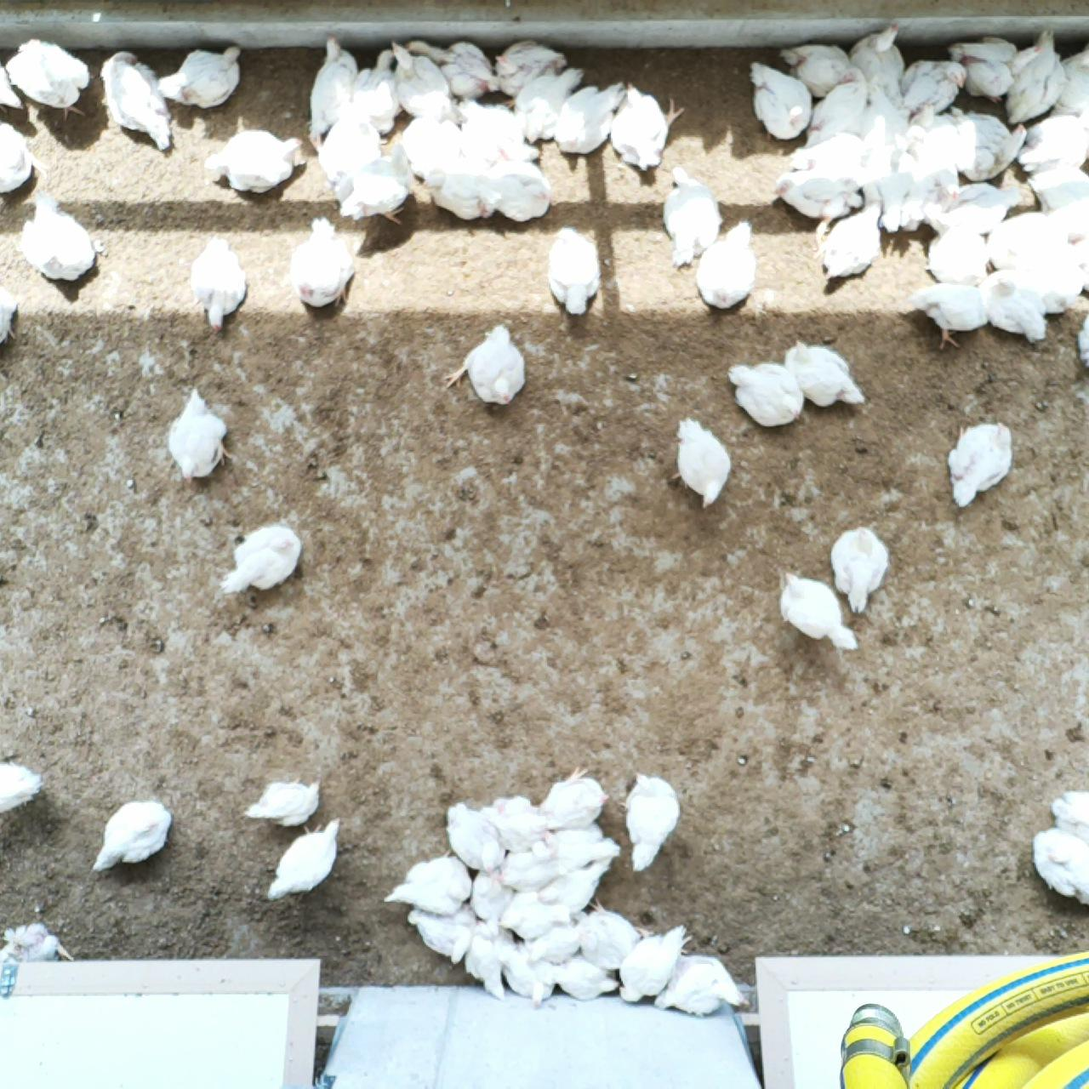chicken: (95, 46, 176, 157), (981, 265, 1088, 345), (441, 318, 531, 410), (200, 121, 307, 197), (3, 36, 92, 127), (17, 189, 100, 286), (654, 159, 723, 273), (283, 211, 357, 314), (945, 30, 1044, 106), (264, 813, 344, 904), (610, 82, 688, 175), (986, 202, 1089, 272), (653, 945, 750, 1018), (944, 418, 1021, 508), (775, 572, 861, 652), (781, 335, 871, 410), (166, 386, 234, 485), (188, 234, 254, 336), (218, 523, 305, 600), (691, 220, 763, 313), (537, 220, 606, 317), (811, 199, 887, 287), (620, 920, 695, 1009), (388, 37, 463, 126), (89, 798, 172, 878), (665, 414, 732, 512), (505, 66, 588, 145), (947, 108, 1031, 186), (618, 769, 681, 873), (380, 847, 473, 917), (457, 99, 546, 172), (335, 140, 411, 224), (1003, 28, 1068, 126), (156, 43, 248, 112), (553, 80, 625, 163), (830, 522, 892, 617), (308, 35, 361, 146), (910, 282, 991, 354), (726, 358, 807, 430), (404, 39, 501, 98), (317, 105, 382, 192), (578, 894, 649, 970), (480, 791, 557, 861), (495, 35, 569, 107), (747, 60, 814, 139), (845, 20, 908, 104), (482, 155, 555, 227), (407, 899, 482, 969), (802, 66, 865, 149), (420, 161, 503, 224), (1015, 112, 1089, 181), (929, 180, 1021, 235), (778, 40, 861, 100), (348, 46, 402, 135), (1029, 824, 1089, 904), (924, 223, 991, 294), (394, 112, 467, 177), (897, 52, 967, 119), (543, 765, 613, 831), (444, 800, 507, 873), (907, 145, 962, 228), (535, 857, 616, 913), (773, 169, 863, 219), (462, 917, 513, 1002), (500, 938, 559, 1010), (542, 954, 624, 1005), (867, 142, 911, 234), (790, 129, 878, 174), (498, 891, 574, 943), (0, 118, 47, 202), (859, 78, 914, 147), (0, 921, 79, 969), (905, 99, 960, 163), (466, 870, 515, 939), (1025, 166, 1089, 218), (542, 821, 621, 862), (1050, 39, 1089, 119), (491, 847, 562, 889), (0, 761, 44, 818), (524, 923, 582, 966), (1046, 787, 1089, 841)
